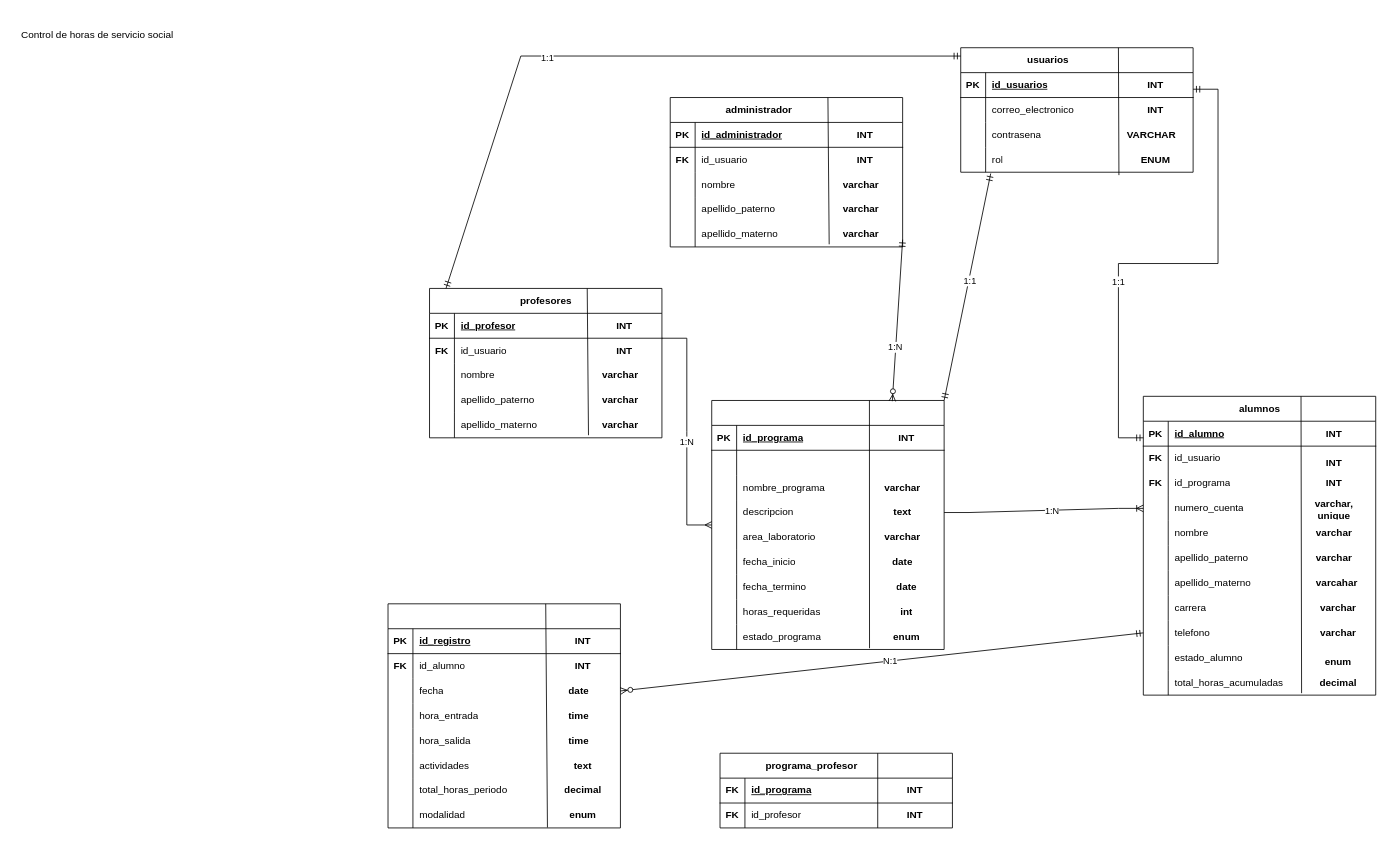
This 1390x843 diagram has some shape labels left out. Here are the shapes that lost their labels. From the top down, the box of each, then its label:
(711, 400, 944, 649): programas
(387, 603, 620, 828): registro_horas
